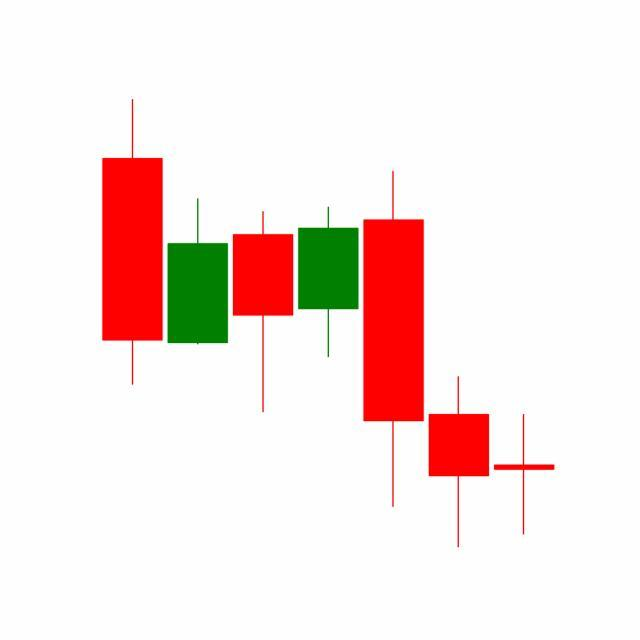Three Outside Up-Down: (295, 167, 492, 549)
